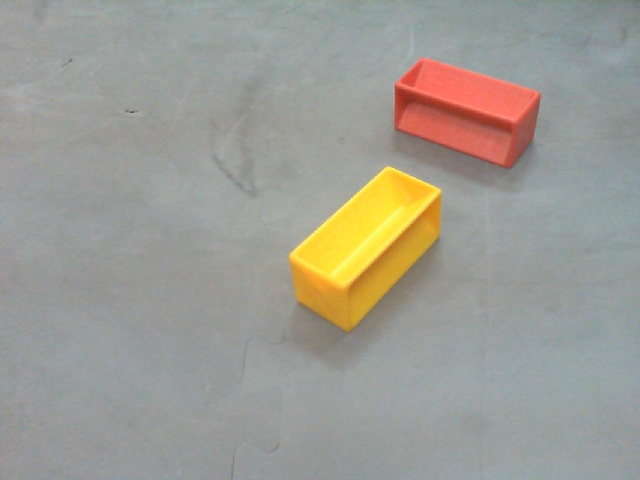RedSample: (392, 54, 545, 172)
YellowSample: (287, 165, 443, 333)
